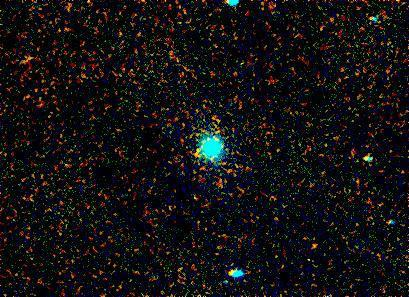star: (181, 139, 211, 169)
